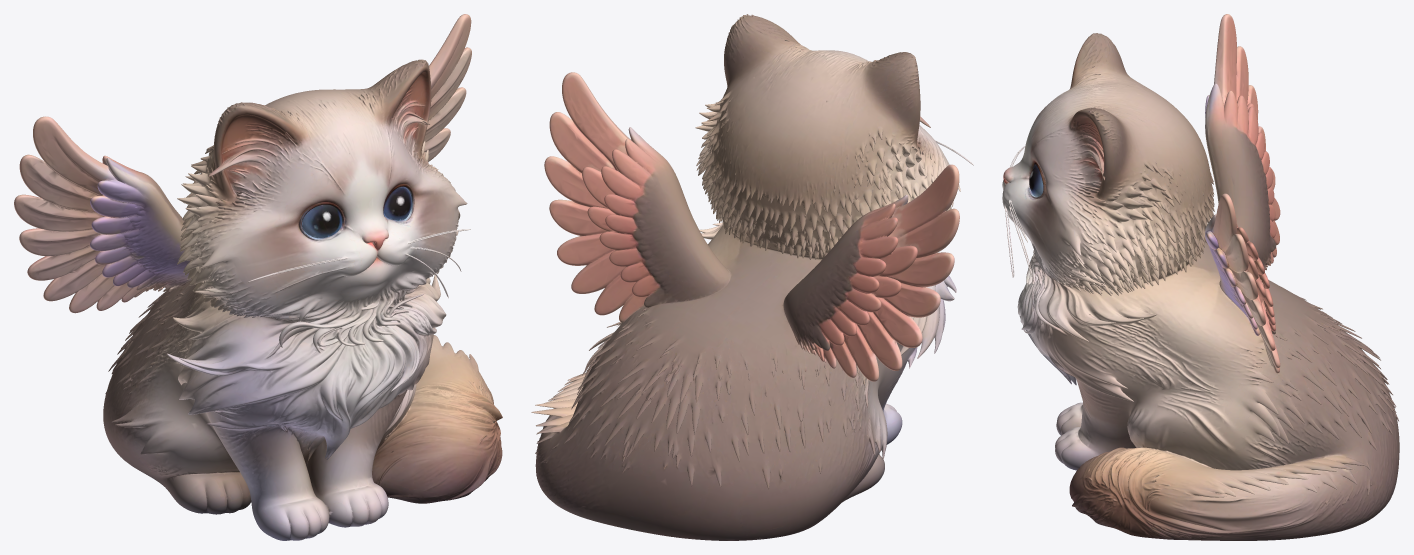
File: cat.glb
3 renders of one model, left to right at view 1: azimuth 30°, elevation 25°; view 2: azimuth 150°, elevation 25°; view 3: azimuth 270°, elevation 25°, orthographic. The views are drawn at different scales.
Parts seen in each view (by area): view 1: Mesh_0; view 2: Mesh_0; view 3: Mesh_0.
Part boxes in pixels (bbox=[...]): Mesh_0: bbox=[14, 14, 502, 540]; Mesh_0: bbox=[531, 14, 973, 540]; Mesh_0: bbox=[1002, 14, 1399, 540].
Bounding box in the file's own units: 0.8833 × 0.8206 × 0.7661.
Materials: 1 (1 with a texture image).
